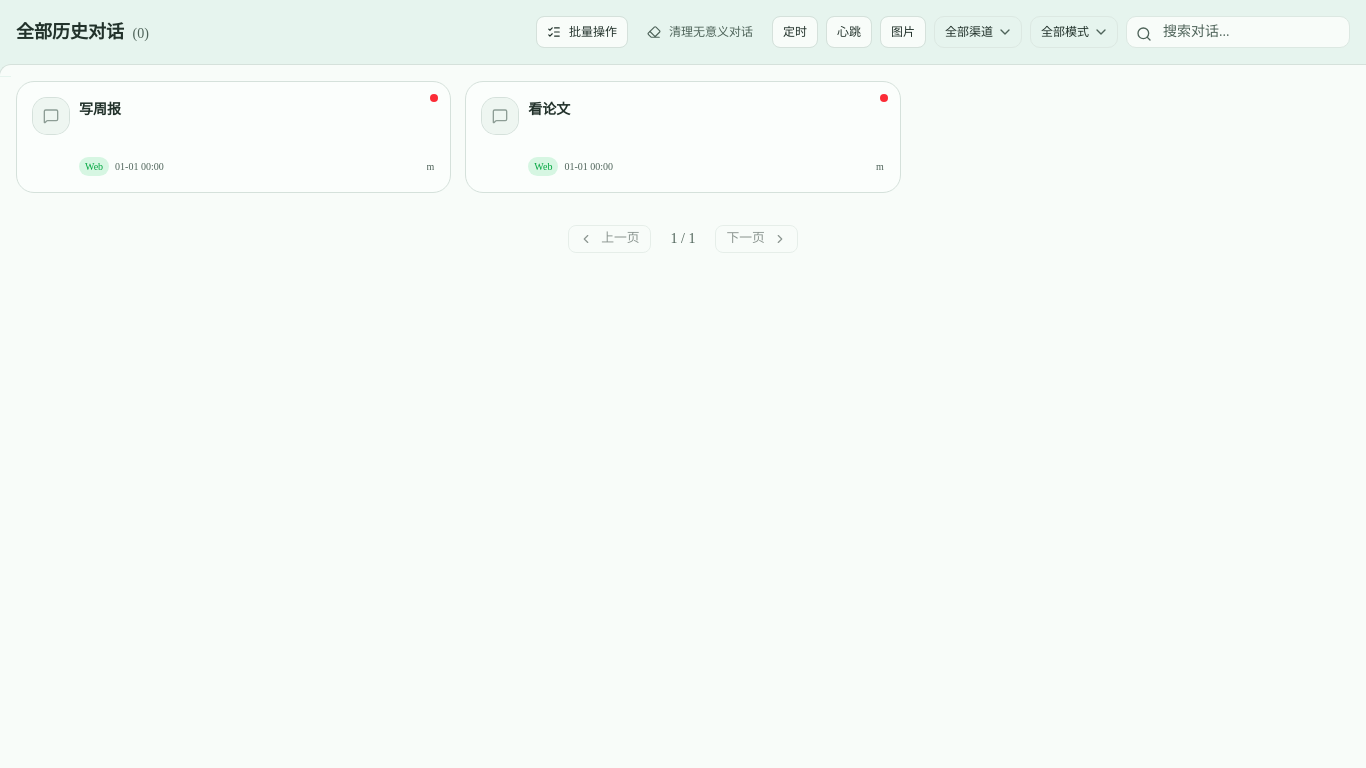
Test case: 全部对话页 · 批量操作 › 批量操作失败：提示失败而不是静默清空选中
Expected: the heading "写周报" is shown, [79,102,121,117]
Click the button titled "进入批量操作".
click(582, 32)  # box [536,16,628,48]
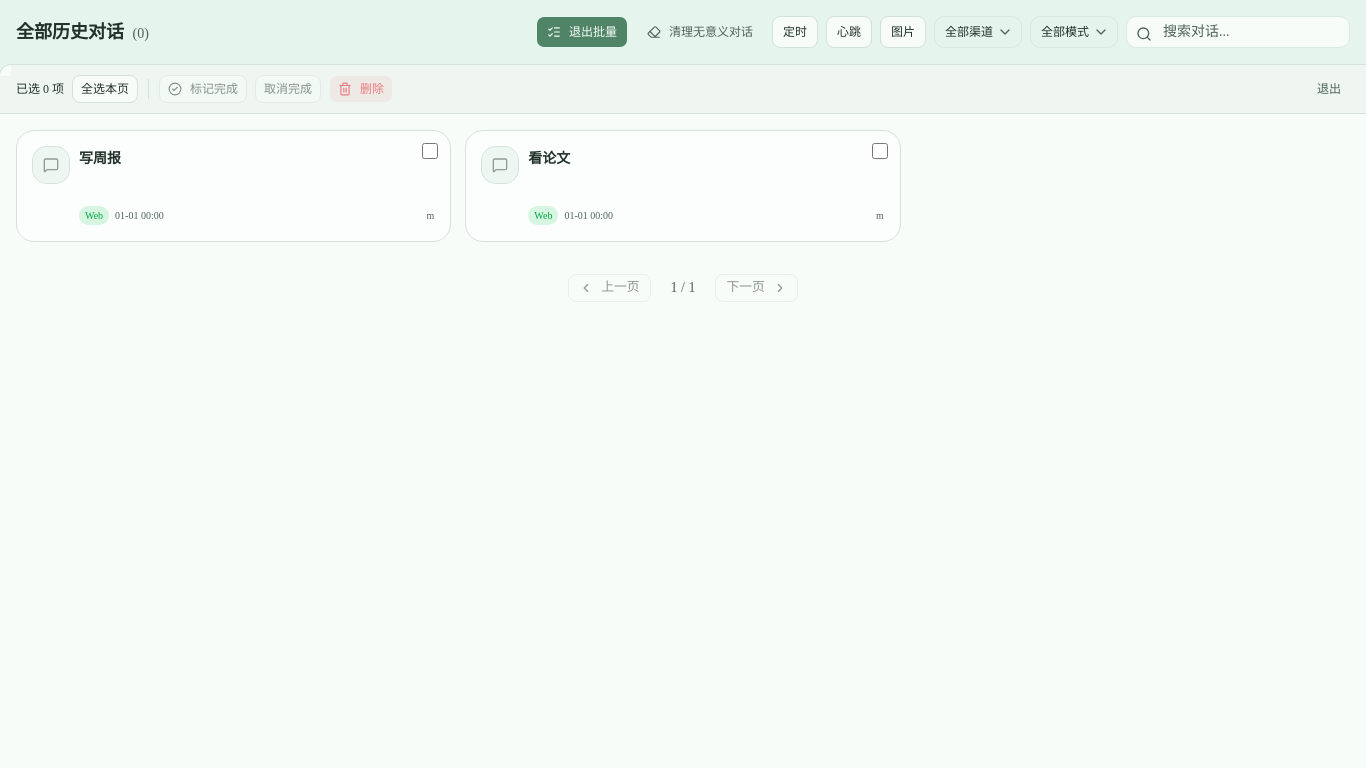
Click the checkbox named "选择对话" in the row of "写周报".
click(430, 151)  # box [422,143,438,159]
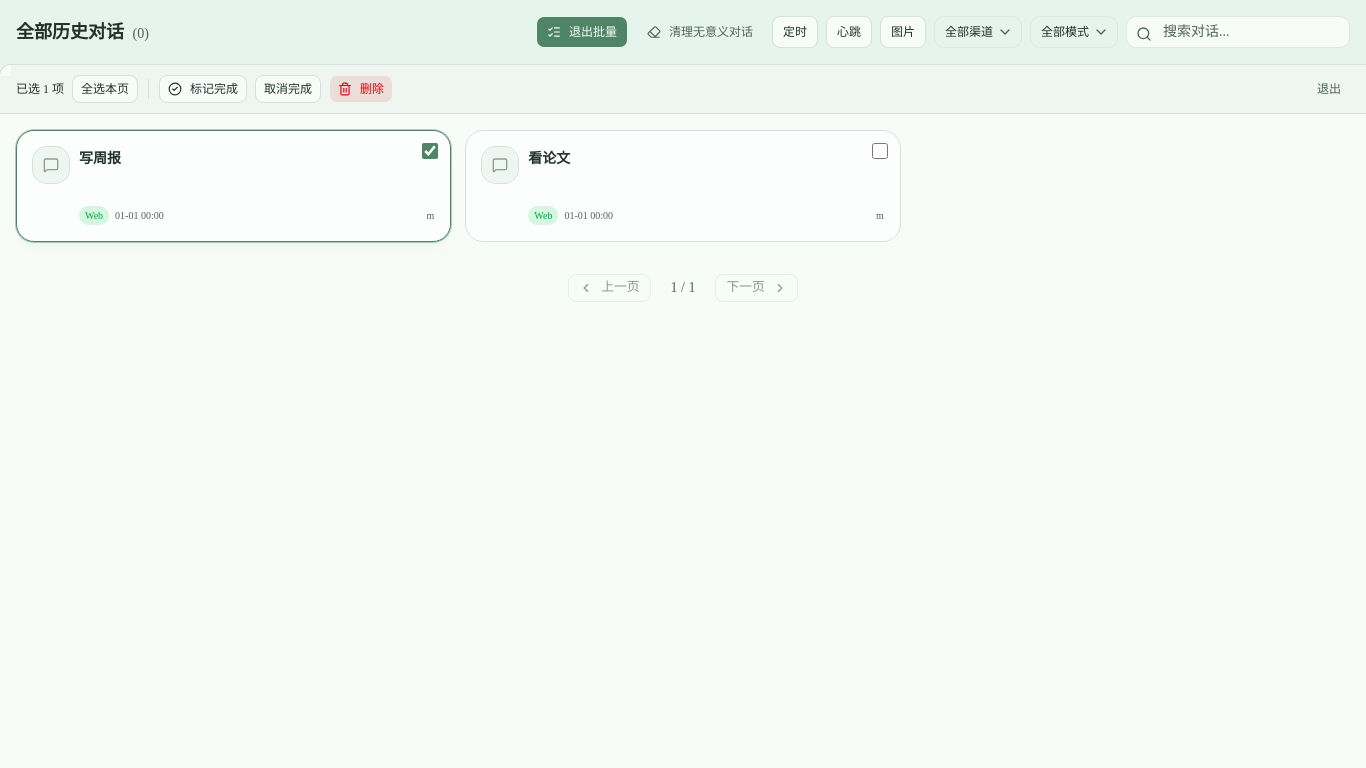
Click the button "删除".
click(361, 89)  # box [329,75,393,103]
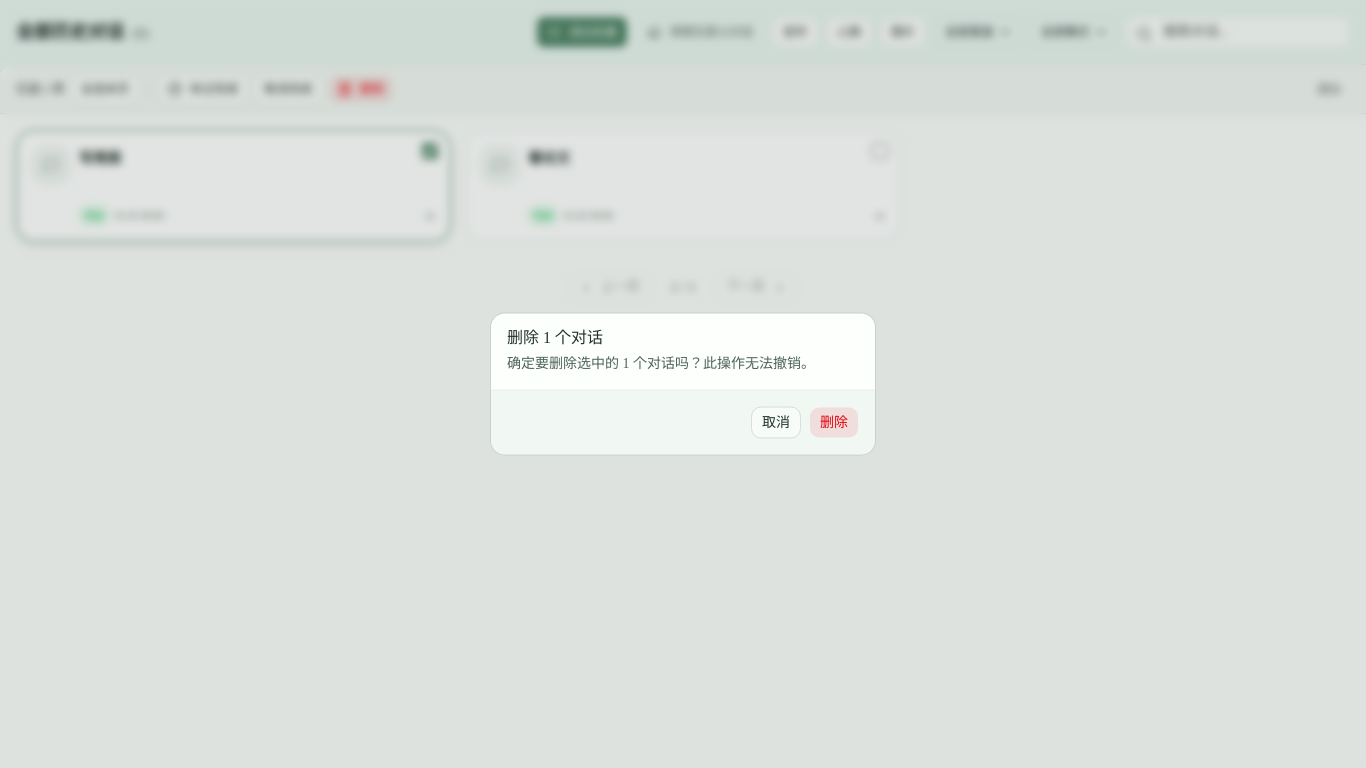
Click the button "删除".
click(834, 422)  # box [809,406,859,438]
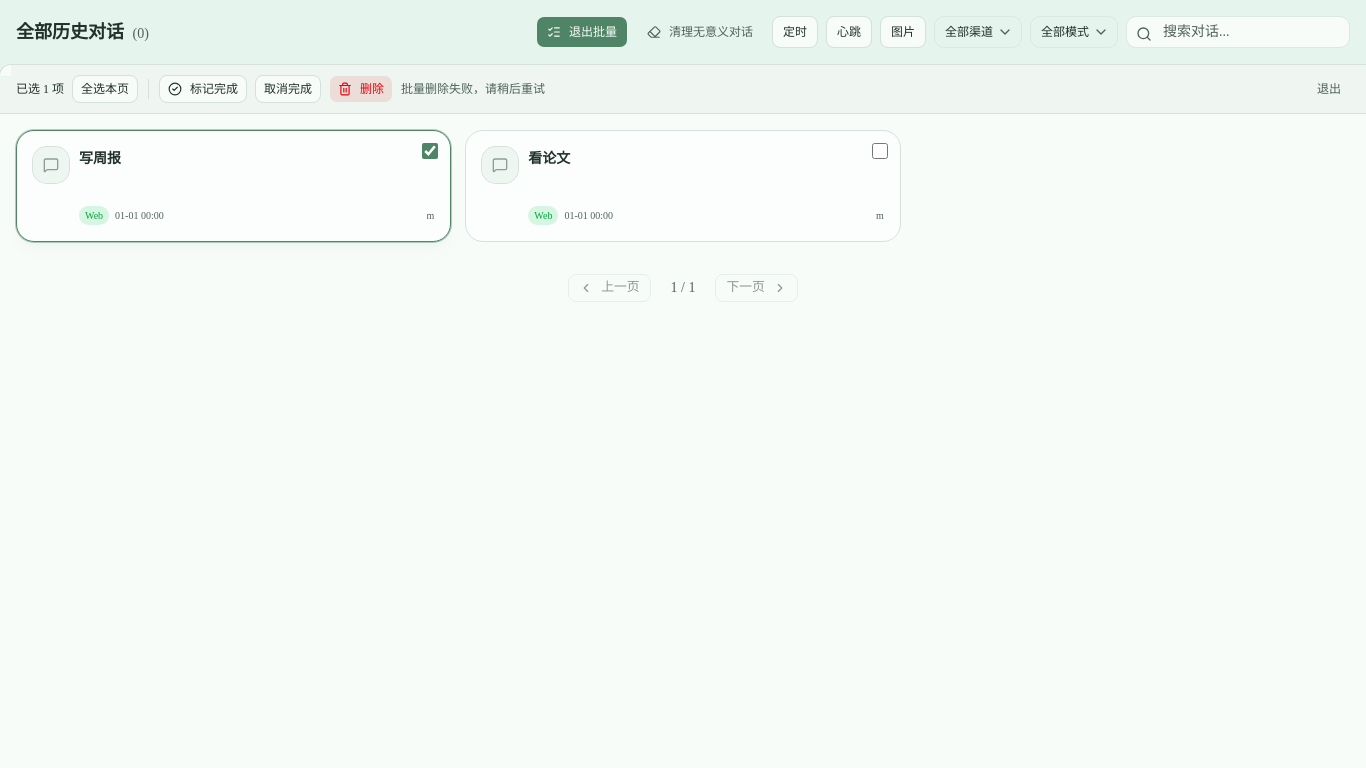
Expected: the text "批量删除失败，请稍后重试" is shown, [401,81,545,97]
